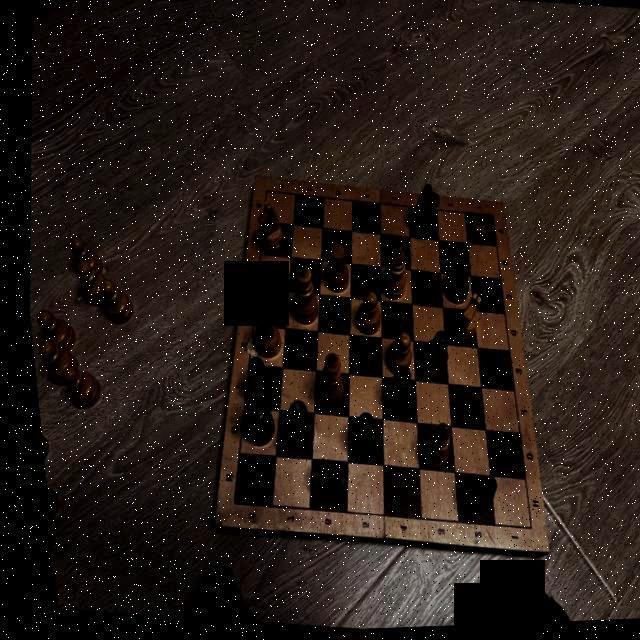chess-table-corners: (218, 498, 228, 512), (514, 527, 525, 538), (483, 214, 492, 223), (258, 188, 266, 198)
